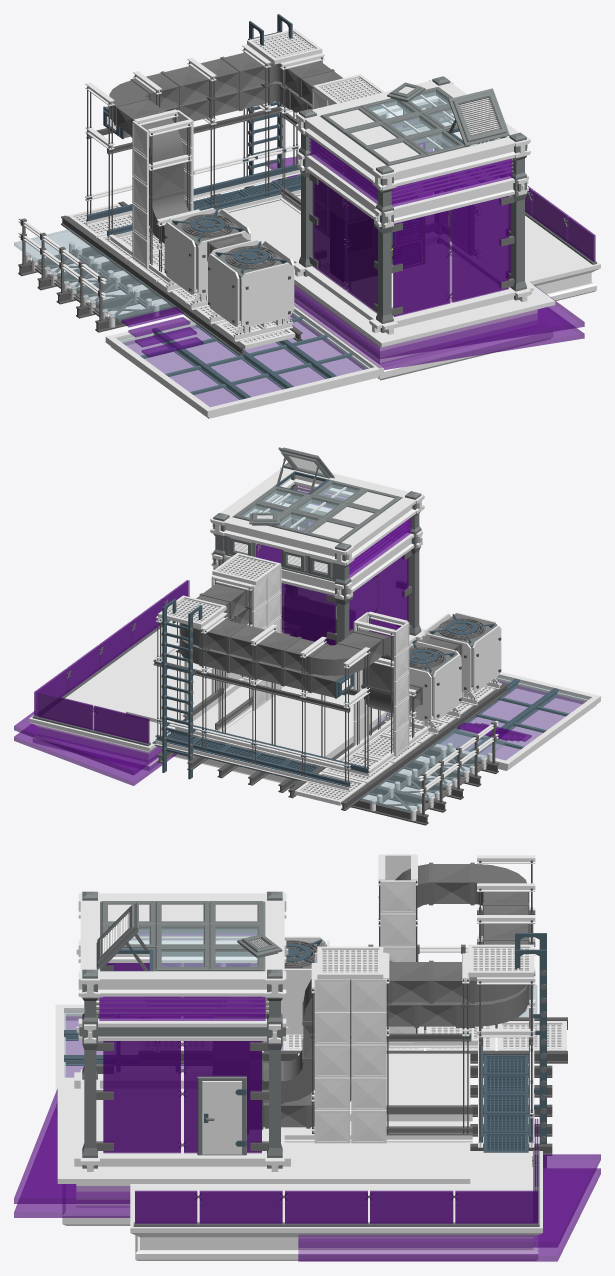
Rendered from mirrors_edge.glb.
3 renders of one model, top to bottom at view 1: azimuth 30°, elevation 25°; view 2: azimuth 150°, elevation 25°; view 3: azimuth 270°, elevation 25°, orthographic. The views are drawn at different scales.
Visible parts, largest first — view 1: Object_11, Object_9, Object_14, Object_6, Object_8, Object_18, Object_17, Object_12, Object_15, Object_5, Object_10, Object_16; view 2: Object_11, Object_9, Object_12, Object_14, Object_18, Object_8, Object_17, Object_6, Object_15, Object_5, Object_10, Object_16; view 3: Object_11, Object_9, Object_12, Object_14, Object_8, Object_17, Object_18, Object_15, Object_5, Object_6, Object_16.
Part boxes in pixels (x1=…): Object_11: x1=18, y1=29, x2=600, y2=418; Object_9: x1=121, y1=125, x2=595, y2=406; Object_14: x1=20, y1=31, x2=569, y2=321; Object_6: x1=14, y1=229, x2=371, y2=406; Object_8: x1=171, y1=76, x2=596, y2=332; Object_18: x1=18, y1=48, x2=419, y2=355; Object_17: x1=86, y1=14, x2=506, y2=399; Object_12: x1=229, y1=144, x2=600, y2=367; Object_15: x1=109, y1=63, x2=381, y2=269; Object_5: x1=368, y1=91, x2=457, y2=151; Object_10: x1=25, y1=242, x2=159, y2=327; Object_16: x1=87, y1=14, x2=322, y2=334; Object_11: x1=29, y1=456, x2=600, y2=805; Object_9: x1=14, y1=485, x2=584, y2=785; Object_12: x1=29, y1=620, x2=413, y2=782; Object_14: x1=65, y1=457, x2=496, y2=815; Object_18: x1=153, y1=579, x2=508, y2=825; Object_8: x1=32, y1=447, x2=495, y2=746; Object_17: x1=152, y1=461, x2=569, y2=787; Object_6: x1=360, y1=676, x2=589, y2=812; Object_15: x1=179, y1=602, x2=485, y2=713; Object_5: x1=241, y1=483, x2=357, y2=530; Object_10: x1=370, y1=742, x2=492, y2=821; Object_16: x1=157, y1=580, x2=493, y2=764; Object_11: x1=55, y1=854, x2=566, y2=1253; Object_9: x1=14, y1=933, x2=600, y2=1261; Object_12: x1=57, y1=1053, x2=542, y2=1260; Object_14: x1=96, y1=862, x2=546, y2=1202; Object_8: x1=79, y1=891, x2=539, y2=1226; Object_17: x1=64, y1=861, x2=546, y2=1167; Object_18: x1=181, y1=860, x2=567, y2=1155; Object_15: x1=165, y1=864, x2=528, y2=1126; Object_5: x1=108, y1=927, x2=256, y2=966; Object_6: x1=64, y1=985, x2=536, y2=1077; Object_16: x1=166, y1=861, x2=546, y2=1132.
Bounding box in the file's own units: 26.09 × 13.52 × 25.43.
